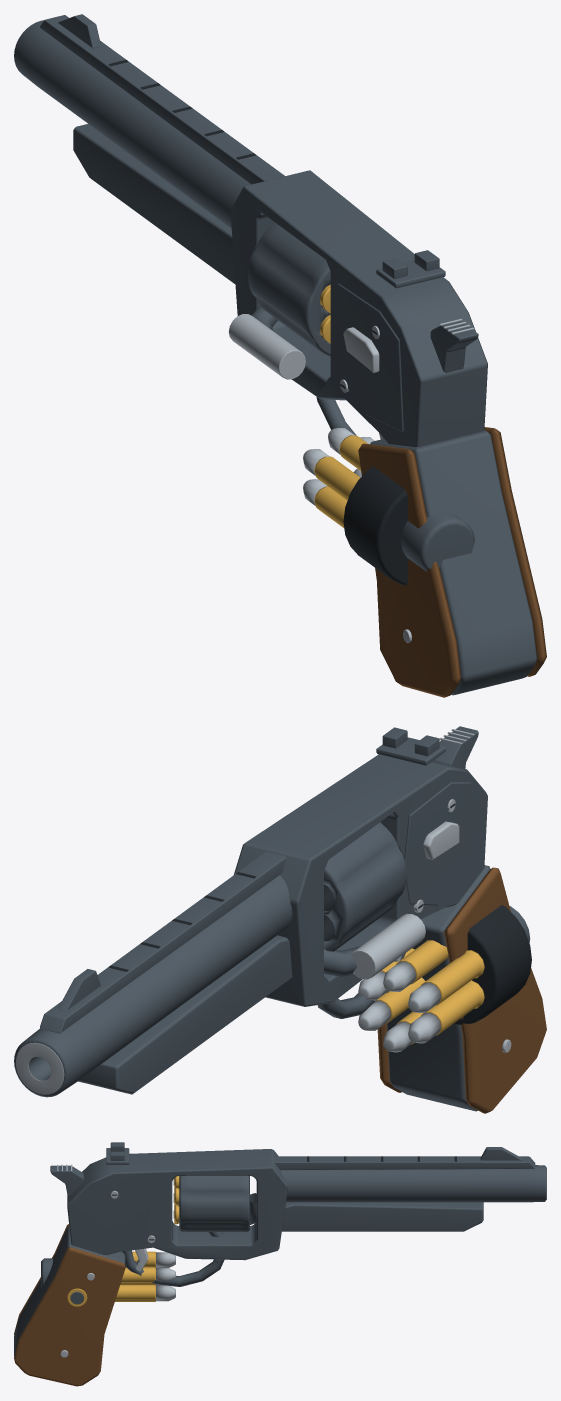
Rendered from vm_revolver.glb.
3 renders of one model, top to bottom at view 1: azimuth 30°, elevation 25°; view 2: azimuth 150°, elevation 25°; view 3: azimuth 270°, elevation 25°, orthographic. The views are drawn at different scales.
Visible parts, largest first — view 1: vm_revolver geometry, grip_reference geometry, speedloader geometry, Six-flute cylinder, crane geometry, hammer geometry; view 2: vm_revolver geometry, grip_reference geometry, speedloader geometry, Six-flute cylinder, crane geometry, hammer geometry; view 3: vm_revolver geometry, grip_reference geometry, Six-flute cylinder, speedloader geometry, hammer geometry.
Part boxes in pixels (<box>): vm_revolver geometry: <box>14,14,487,447</box>; grip_reference geometry: <box>358,427,546,697</box>; speedloader geometry: <box>303,428,474,585</box>; Six-flute cylinder: <box>248,222,330,356</box>; crane geometry: <box>229,306,305,379</box>; hammer geometry: <box>430,318,478,372</box>; vm_revolver geometry: <box>14,727,487,1097</box>; grip_reference geometry: <box>377,865,546,1113</box>; speedloader geometry: <box>358,905,531,1052</box>; Six-flute cylinder: <box>324,822,406,951</box>; crane geometry: <box>324,914,425,979</box>; hammer geometry: <box>433,726,478,768</box>; vm_revolver geometry: <box>67,1142,546,1286</box>; grip_reference geometry: <box>14,1224,125,1386</box>; Six-flute cylinder: <box>179,1176,249,1231</box>; speedloader geometry: <box>41,1251,175,1301</box>; hammer geometry: <box>50,1164,84,1196</box>.
Bounding box in the file's own units: 0.0567 × 0.1623 × 0.3468.
